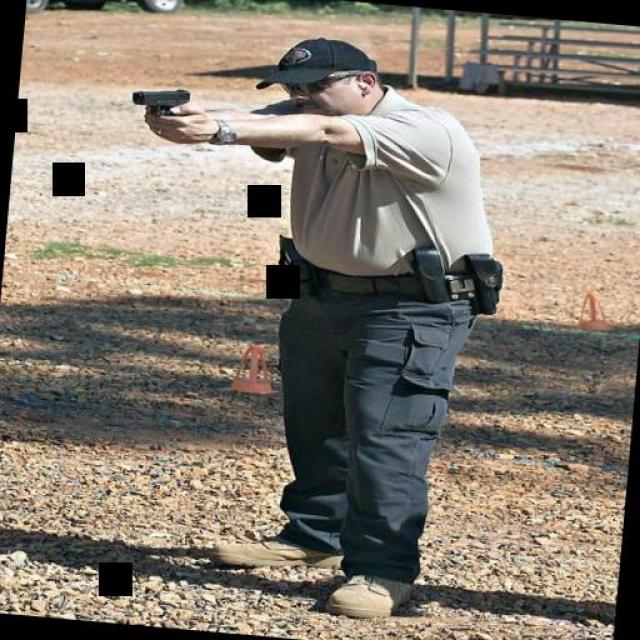gun: (118, 80, 198, 128)
